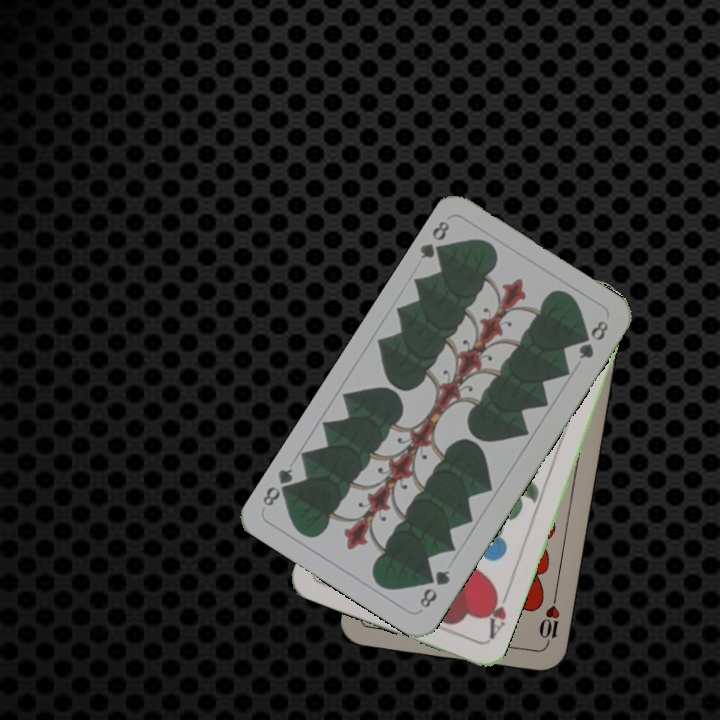G8: (415, 216, 452, 263), (415, 566, 453, 611)
H10: (535, 591, 563, 650)
HA: (481, 584, 510, 642)
